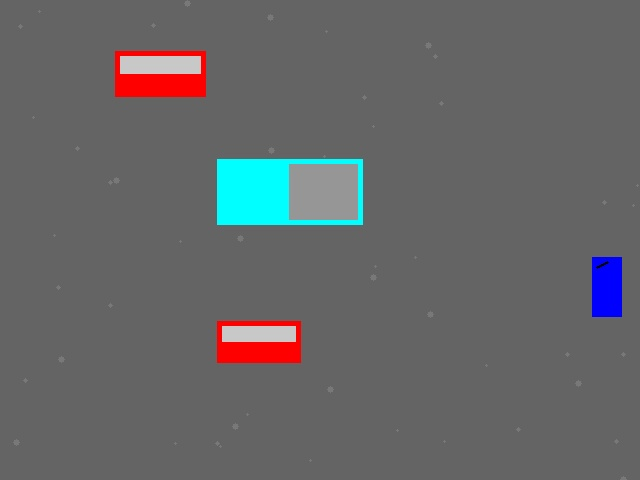car: (115, 51, 205, 96), (217, 321, 300, 362)
motorcycle: (592, 257, 621, 316)
truck: (217, 159, 362, 224)
